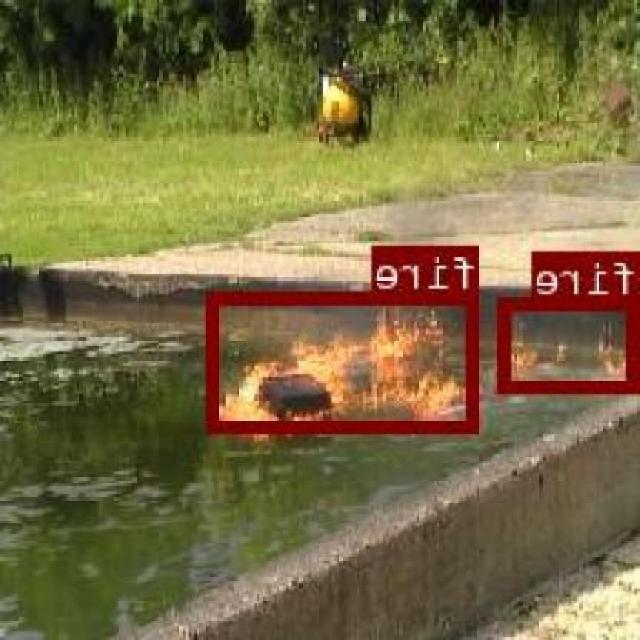Fire: (208, 290, 482, 428), (503, 296, 640, 389)
